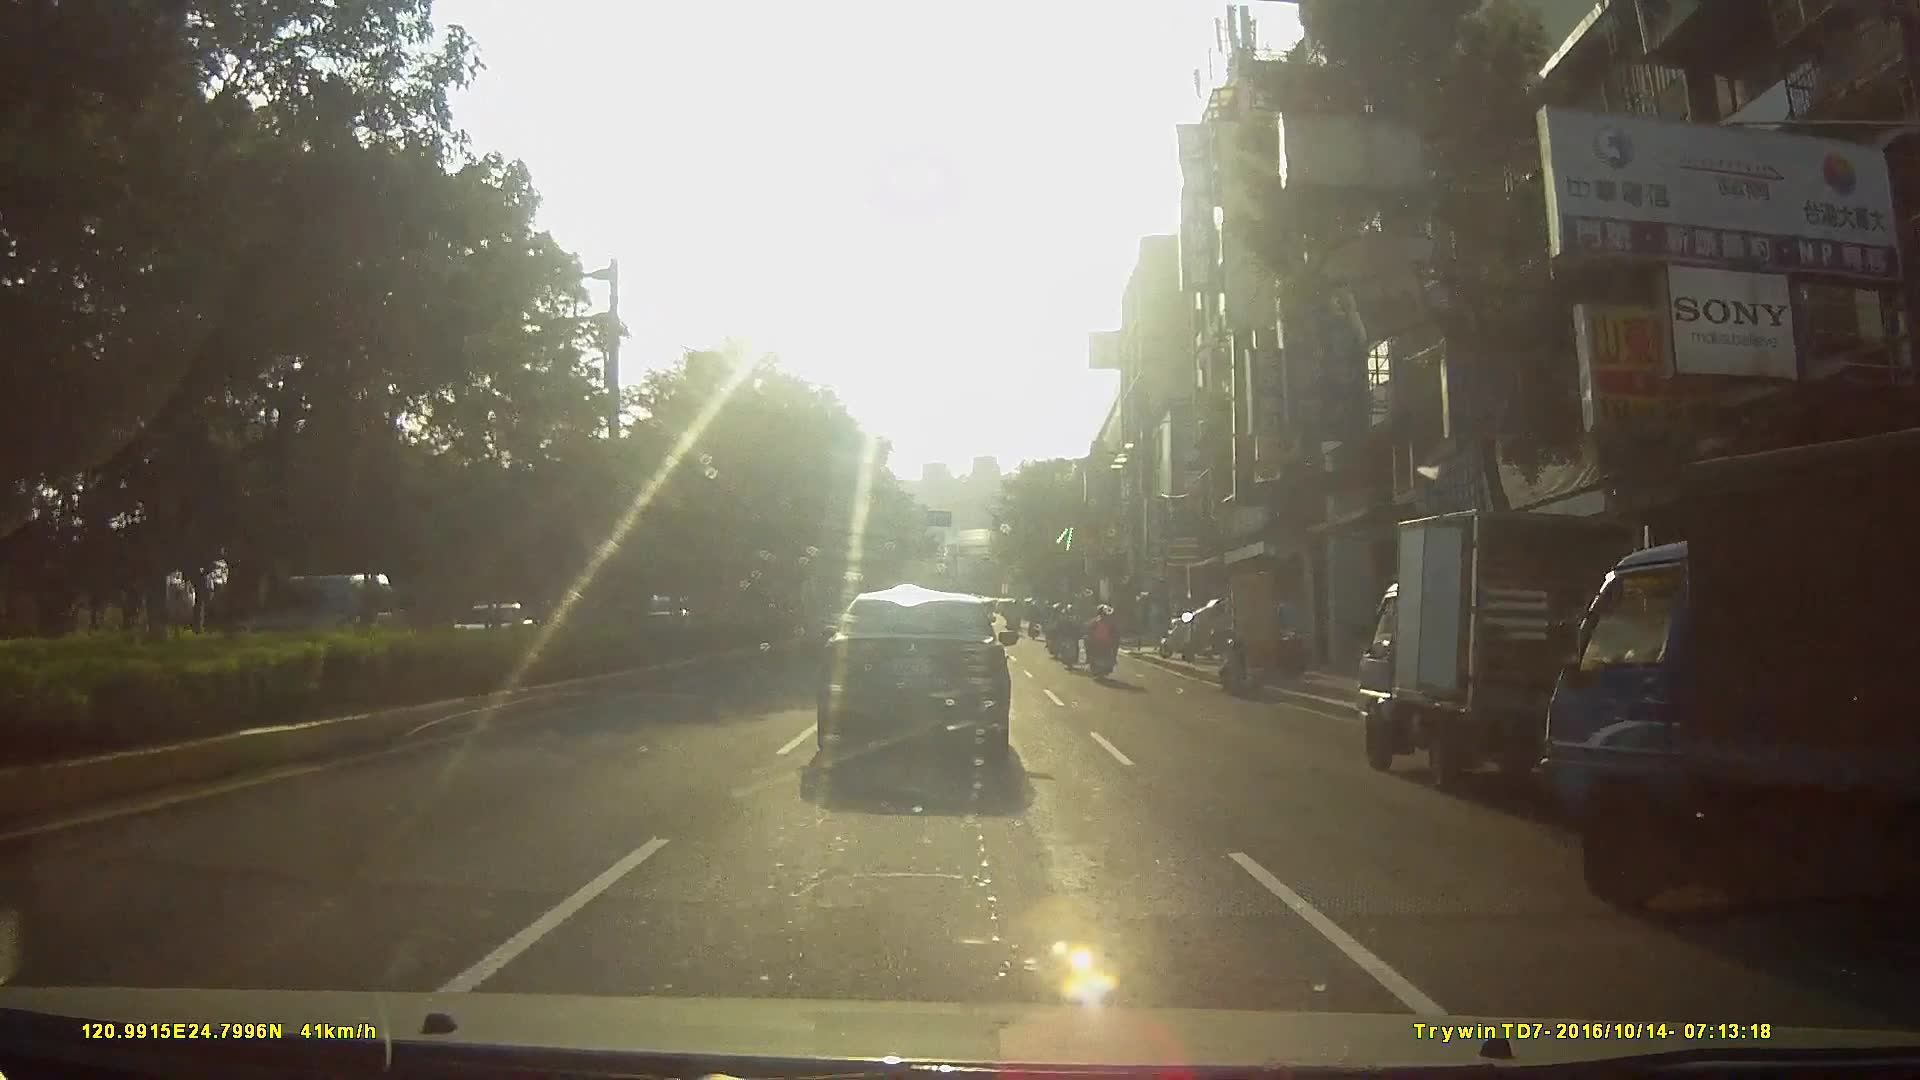rider: (1083, 604, 1122, 683), (1056, 603, 1085, 672), (1046, 606, 1066, 663)
vehicle: (1535, 433, 1920, 955), (1348, 499, 1665, 791), (811, 591, 1025, 786)
